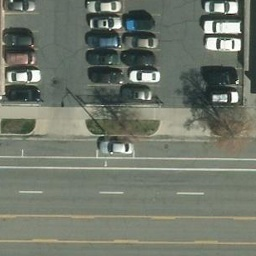car: (99, 138, 133, 157), (86, 66, 121, 84), (7, 86, 41, 104), (205, 36, 243, 50), (203, 21, 241, 35), (6, 51, 41, 66), (7, 68, 42, 82), (125, 18, 160, 31), (84, 33, 119, 46), (127, 34, 162, 47), (83, 50, 118, 63), (121, 50, 156, 63), (87, 17, 121, 30), (5, 31, 34, 46), (128, 70, 161, 83), (204, 1, 239, 13), (3, 1, 37, 13), (88, 1, 122, 13), (124, 87, 151, 101), (209, 71, 238, 84), (209, 90, 238, 103)
